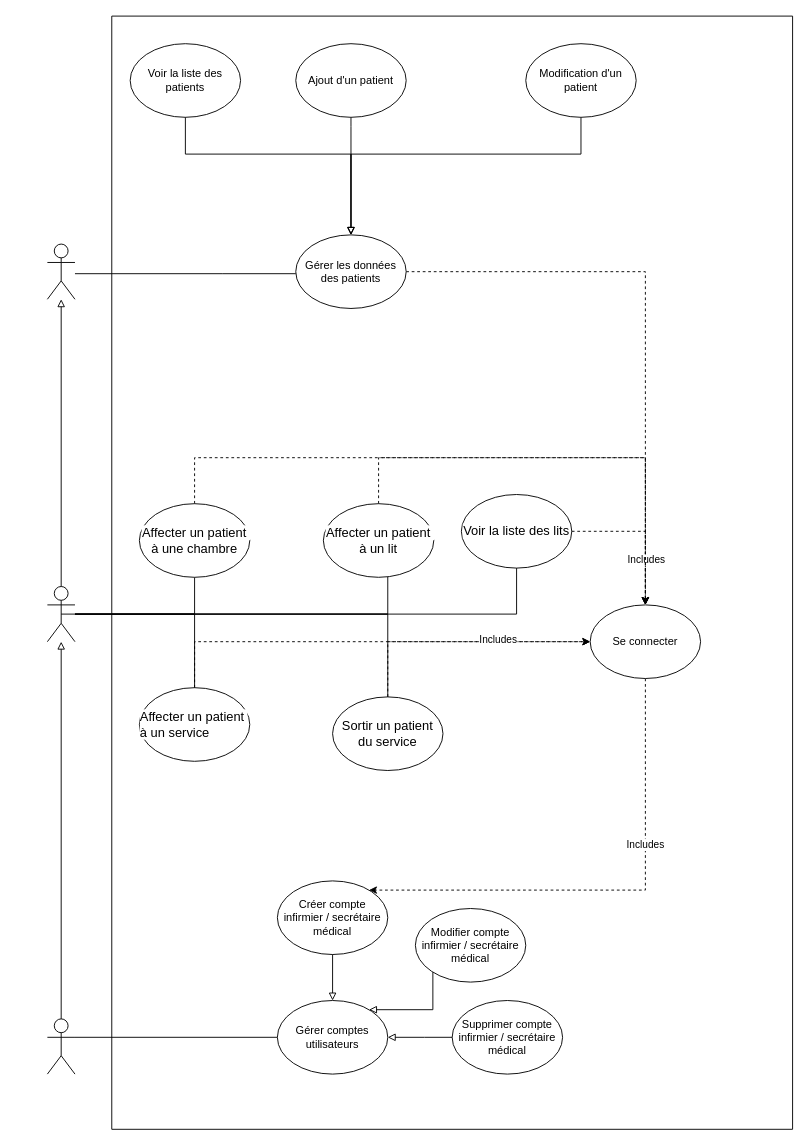
Image size: 809x1145. Some labels were removed from this diagram. Each missing label, with the centre of its shape:
"Administrateur" belongs at (60,1046).
"Infirmier" belongs at (60,614).
"Secrétaire médical" belongs at (60,271).
